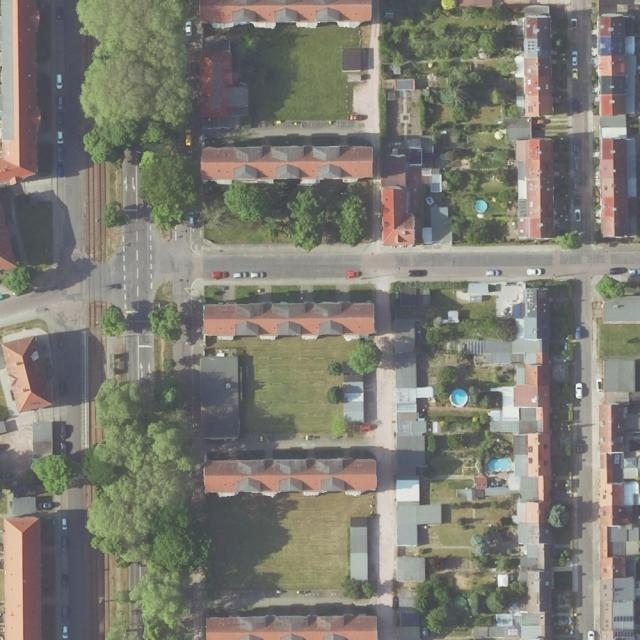PV: (613, 614, 634, 623), (614, 629, 640, 636)
ST: (526, 289, 534, 306), (526, 40, 536, 51)
